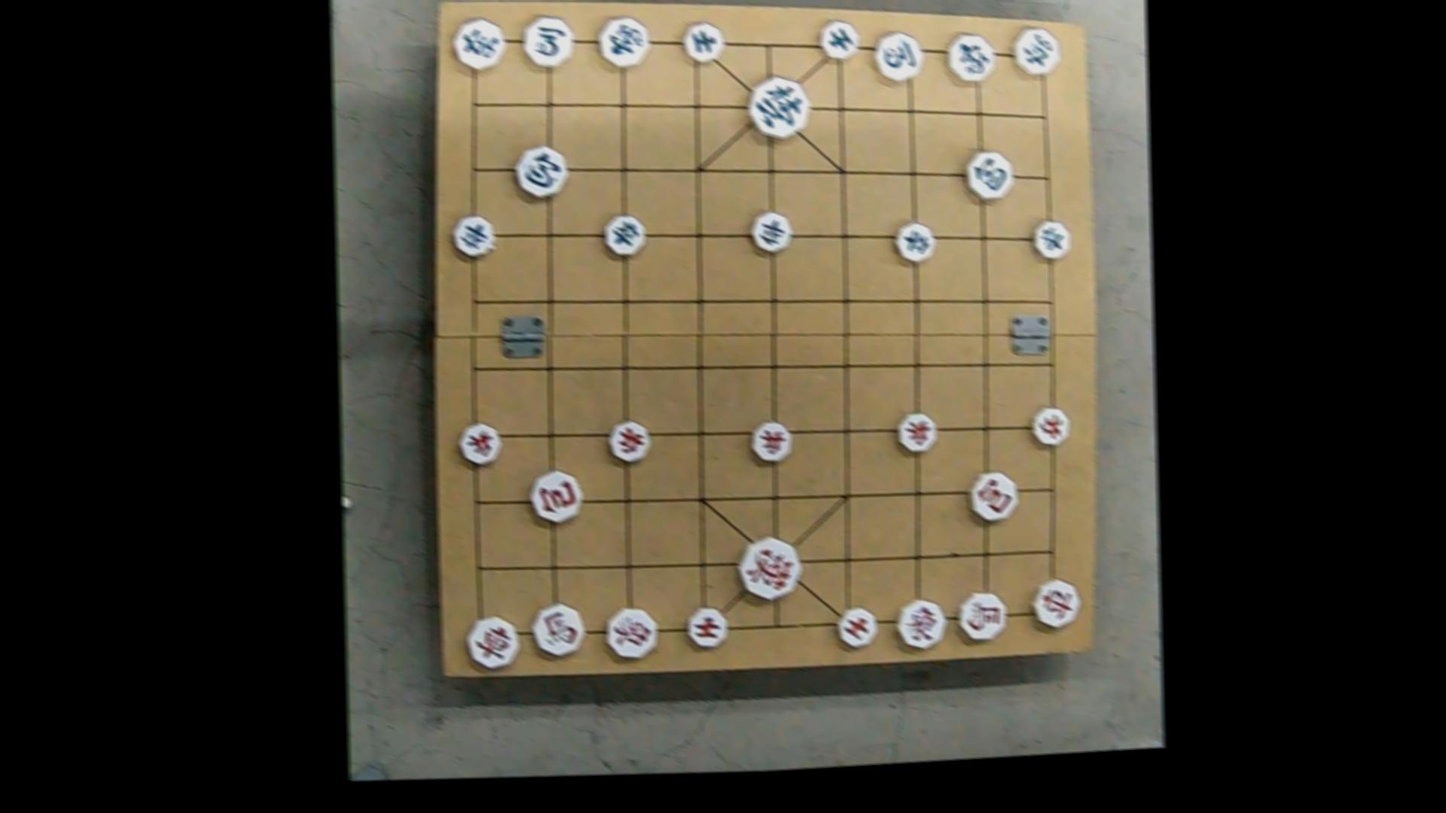cha_green: (451, 17, 504, 75), (1012, 23, 1061, 78)
cha_red: (462, 612, 520, 668), (1033, 577, 1081, 630)
jol_green: (893, 218, 938, 266), (451, 211, 494, 258), (752, 211, 793, 257), (601, 211, 642, 257), (1031, 220, 1070, 264)
jol_red: (608, 417, 655, 466), (751, 420, 792, 468), (458, 422, 499, 469), (895, 410, 936, 454), (1032, 407, 1070, 449)
ma_green: (523, 14, 575, 70), (872, 29, 922, 84)
ma_red: (531, 599, 587, 661), (957, 589, 1005, 644)
po_green: (513, 141, 574, 206), (962, 149, 1015, 203)
po_red: (529, 467, 582, 524), (966, 470, 1020, 525)
sa_green: (682, 20, 727, 65), (819, 19, 862, 63)
sa_red: (684, 605, 732, 647), (834, 606, 879, 650)
sang_green: (593, 13, 657, 75), (944, 28, 999, 85)
sang_red: (605, 604, 658, 663), (899, 596, 949, 650)
wang_green: (746, 72, 814, 142)
wang_red: (737, 533, 803, 603)
